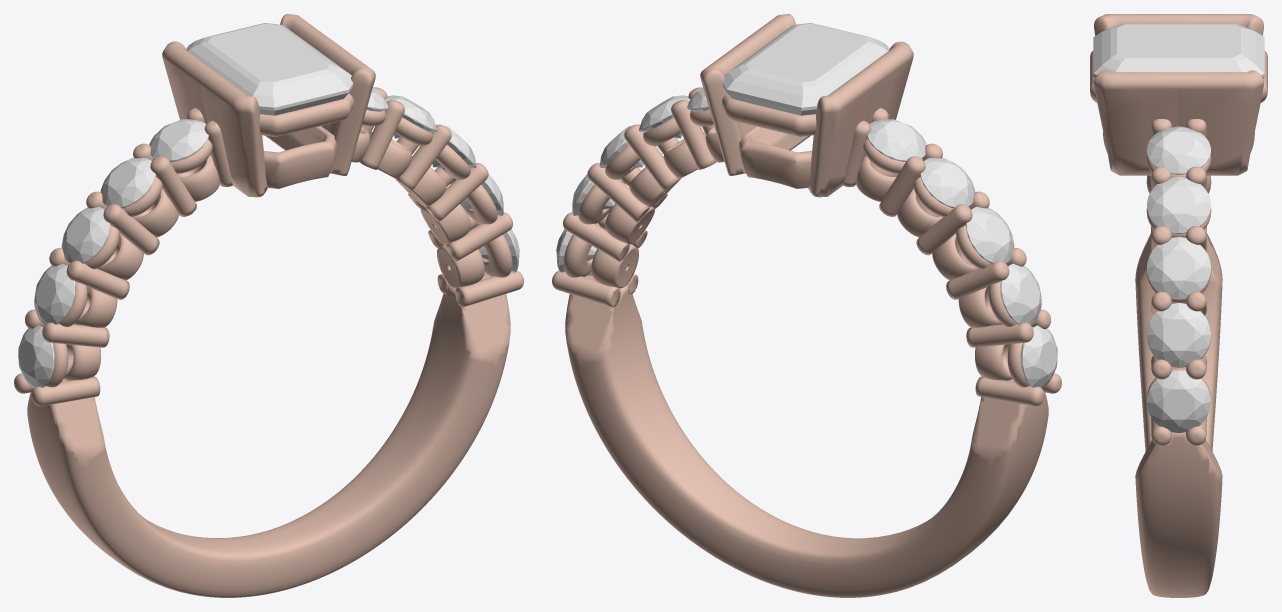
Rendered from diamond-emerald-rosegold-halfmoonbezel-straighttaperedband-11stone.glb.
3 renders of one model, left to right at view 1: azimuth 30°, elevation 25°; view 2: azimuth 150°, elevation 25°; view 3: azimuth 270°, elevation 25°, orthographic.
Parts seen in each view (by area): view 1: metal.003, stone.002, side.024, side.025, side.023, side.026, side.002, side.028; view 2: metal.003, stone.002, side.024, side.025, side.023, side.026, side.002, side.028; view 3: metal.003, stone.002, side.030, side.029, side.031, side.028, side.027.
Boxes of the visible parts, <box> form: metal.003: <box>14,14,523,597</box>; stone.002: <box>186,23,353,115</box>; side.024: <box>61,206,110,263</box>; side.025: <box>100,158,155,208</box>; side.023: <box>34,263,75,324</box>; side.026: <box>149,119,208,161</box>; side.002: <box>18,325,55,388</box>; side.028: <box>385,95,437,138</box>; metal.003: <box>552,14,1061,597</box>; stone.002: <box>722,23,889,115</box>; side.024: <box>965,206,1014,263</box>; side.025: <box>920,158,975,208</box>; side.023: <box>1000,263,1041,324</box>; side.026: <box>867,119,926,161</box>; side.002: <box>1020,325,1057,388</box>; side.028: <box>638,95,690,138</box>; metal.003: <box>1090,14,1267,597</box>; stone.002: <box>1093,24,1264,78</box>; side.030: <box>1147,303,1210,366</box>; side.029: <box>1147,237,1210,299</box>; side.031: <box>1147,370,1210,432</box>; side.028: <box>1147,177,1210,233</box>; side.027: <box>1147,126,1210,174</box>.
Size of the model in its own units: 22.03 by 22.95 by 6.94.
